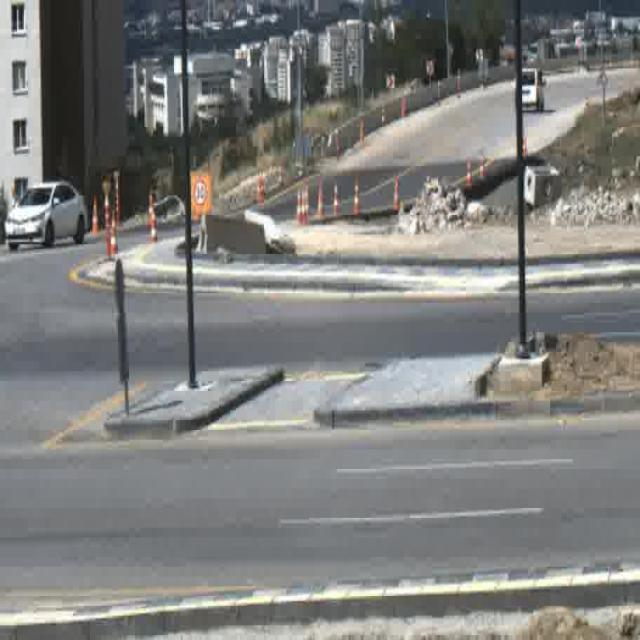Car: (4, 179, 87, 244), (519, 69, 547, 111)
